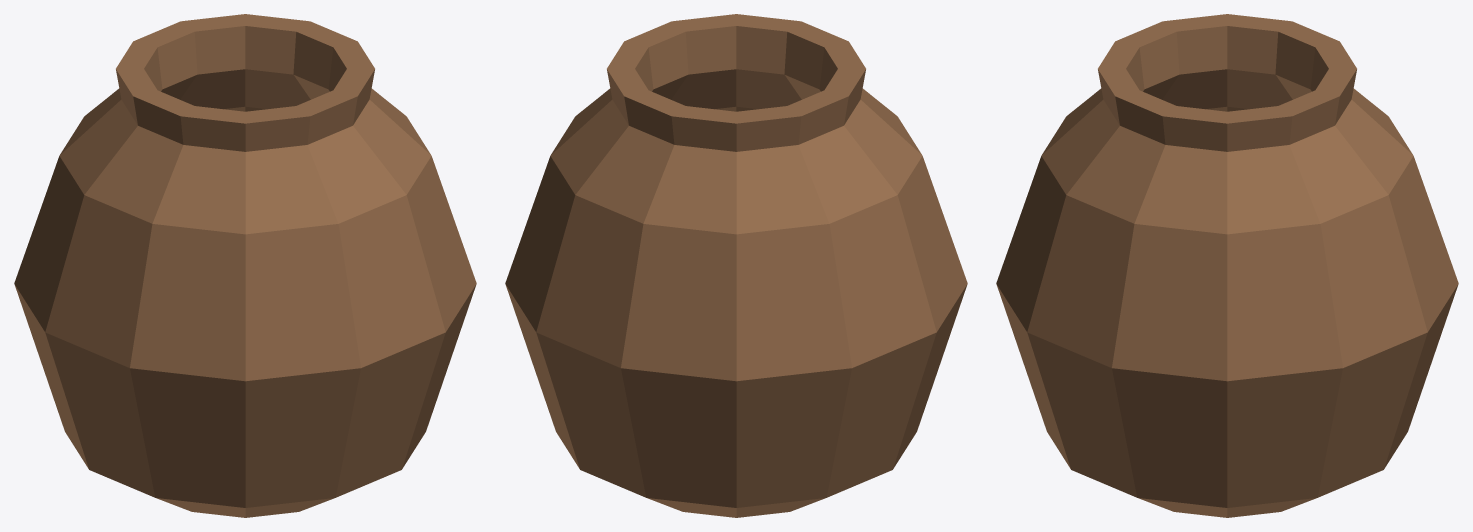
File: jar-normal.glb
The picture shows the model from 3 angles, left to right: view 1: azimuth 30°, elevation 25°; view 2: azimuth 150°, elevation 25°; view 3: azimuth 270°, elevation 25°; orthographic projection.
Visible parts, largest first — view 1: jar; view 2: jar; view 3: jar.
Part boxes in pixels (x1,y1,x2,y2): jar: (14, 14, 476, 517); jar: (505, 14, 967, 517); jar: (996, 14, 1458, 517).
Size of the model in its own units: 0.82 by 0.79 by 0.82.
